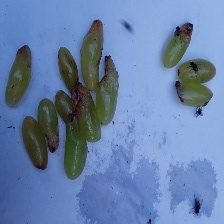grapes: (5, 0, 177, 199)
